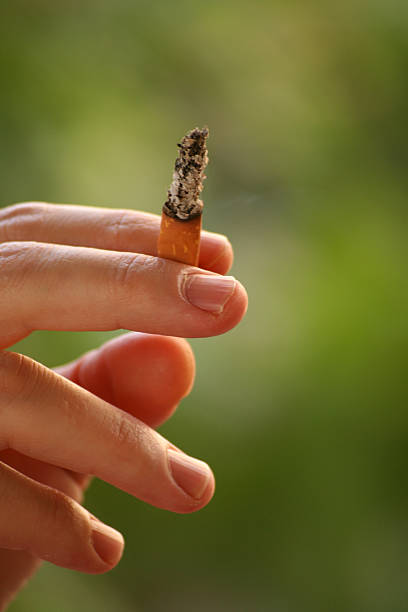cigarette: (157, 124, 210, 269)
